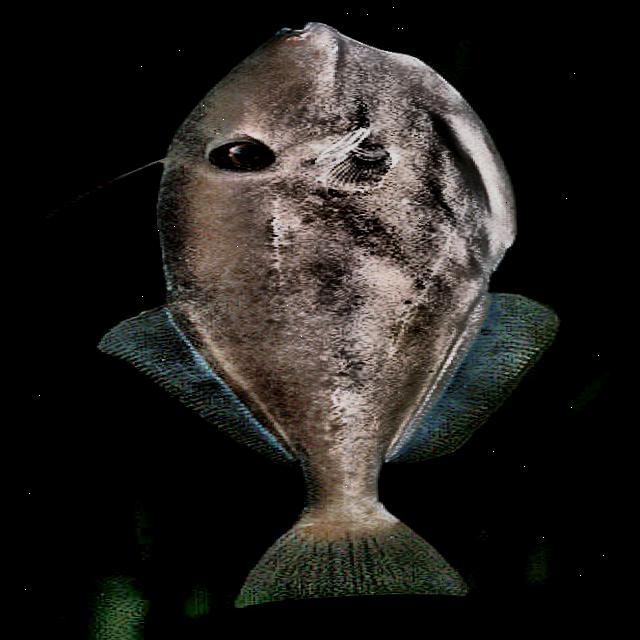fish: (26, 9, 571, 616)
